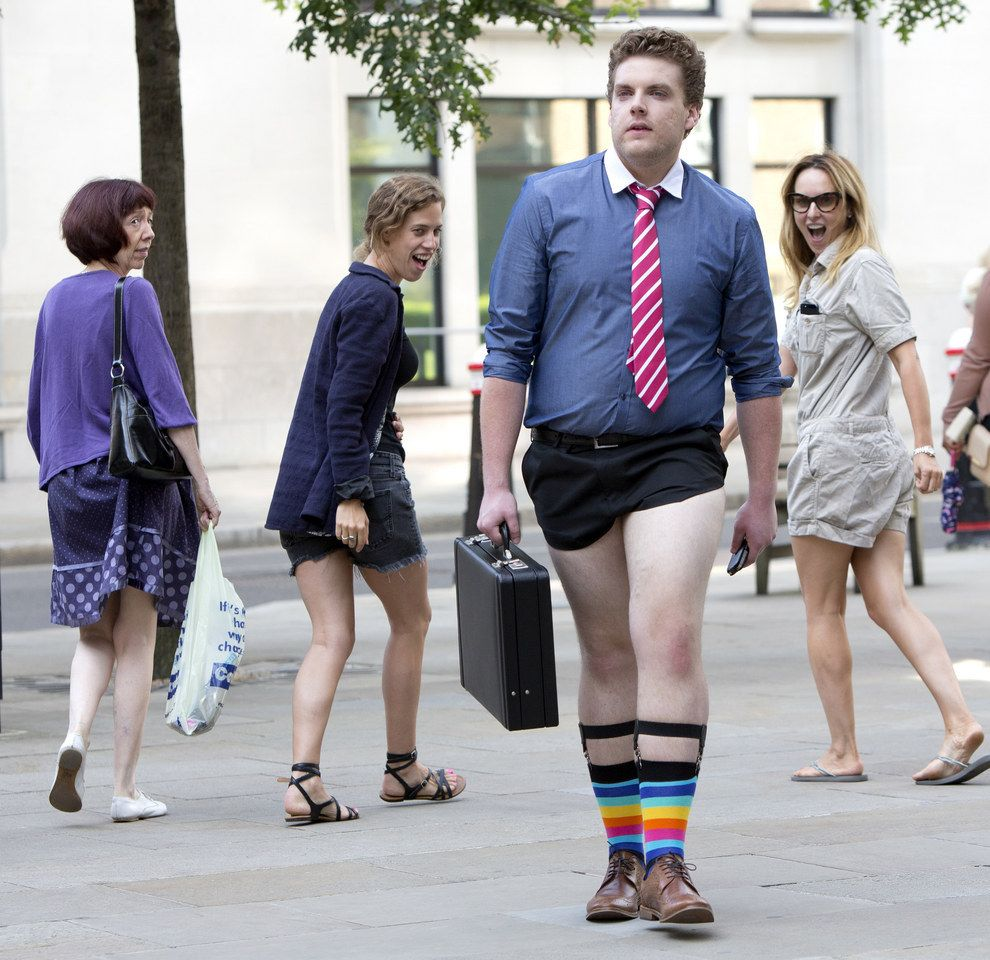Person: (478, 27, 782, 922), (774, 151, 990, 785), (265, 172, 467, 820), (27, 178, 222, 821)
